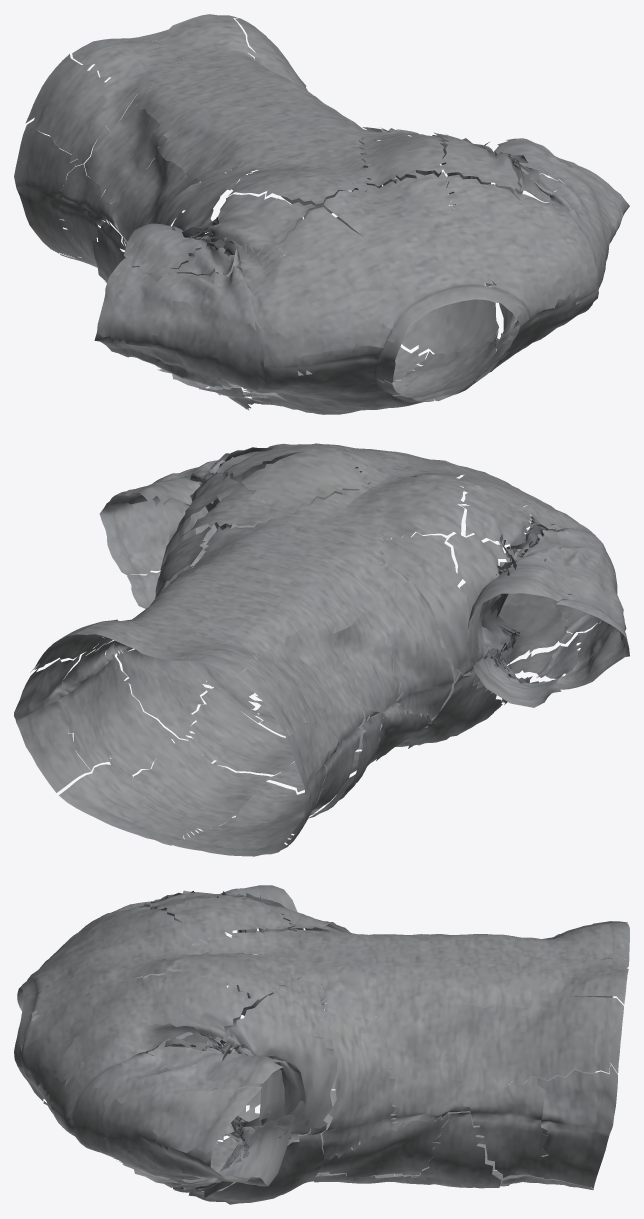
Rendered from adult-base-01.mobile.glb.
3 views of the same model, one above another, from view 1: azimuth 30°, elevation 25°; view 2: azimuth 150°, elevation 25°; view 3: azimuth 270°, elevation 25° (orthographic). The views are drawn at different scales.
Parts seen in each view (by area): view 1: geometry_0; view 2: geometry_0; view 3: geometry_0.
Part boxes in pixels (bbox=[...]): geometry_0: bbox=[14, 14, 629, 414]; geometry_0: bbox=[14, 443, 629, 856]; geometry_0: bbox=[14, 885, 629, 1204].
Size of the model in its own units: 0.00663 by 0.00287 by 0.00681.
Materials: 1 (1 with a texture image).
